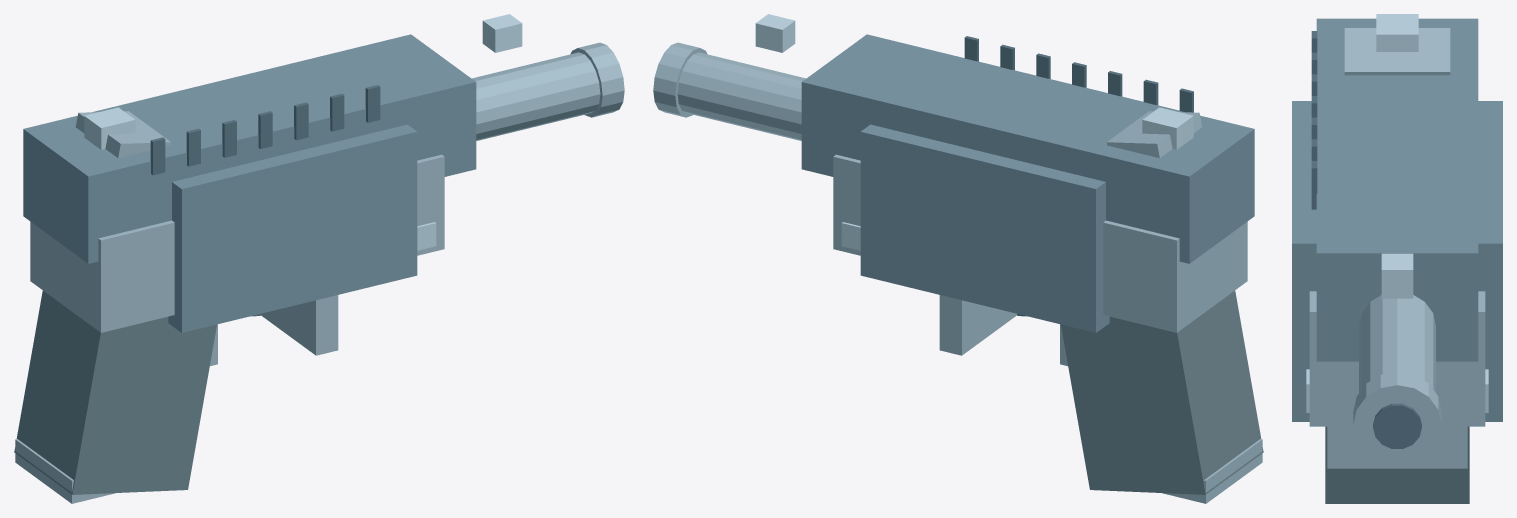
File: classic-revolver.glb
3 views of the same model, side by side, from view 1: azimuth 30°, elevation 25°; view 2: azimuth 150°, elevation 25°; view 3: azimuth 270°, elevation 25° (orthographic). The views are drawn at different scales.
Parts seen in each view (by area): view 1: SLIDE_ASSEMBLY, REVOLVER_FRAME, GRIP_PANEL, MAIN_BODY, BARREL, TRIGGER_GUARD_FRONT, MUZZLE_CROWN, GRIP_HEEL, HAMMER, REAR_SIGHT, FRONT_SIGHT; view 2: SLIDE_ASSEMBLY, REVOLVER_FRAME, GRIP_PANEL, MAIN_BODY, BARREL, TRIGGER_GUARD_FRONT, MUZZLE_CROWN, GRIP_HEEL, HAMMER, REAR_SIGHT, FRONT_SIGHT; view 3: SLIDE_ASSEMBLY, REVOLVER_FRAME, MAIN_BODY, BARREL, GRIP_PANEL, MUZZLE_CROWN, HAMMER, TRIGGER_GUARD_FRONT, MUZZLE_BORE, REAR_SIGHT, FRONT_SIGHT, FRAME_RAIL (+1 smaller).
Boxes of the visible parts, x1,y1,x2,y2 form: SLIDE_ASSEMBLY: (23,34,476,263); REVOLVER_FRAME: (168,124,417,332); GRIP_PANEL: (14,290,216,494); MAIN_BODY: (30,154,444,332); BARREL: (472,52,600,140); TRIGGER_GUARD_FRONT: (261,295,338,355); MUZZLE_CROWN: (570,42,624,117); GRIP_HEEL: (15,439,115,503); HAMMER: (75,111,171,158); REAR_SIGHT: (84,107,135,149); FRONT_SIGHT: (482,14,522,52); SLIDE_ASSEMBLY: (801,34,1254,263); REVOLVER_FRAME: (860,124,1109,332); GRIP_PANEL: (1061,290,1263,494); MAIN_BODY: (833,154,1247,332); BARREL: (677,52,805,140); TRIGGER_GUARD_FRONT: (939,295,1016,355); MUZZLE_CROWN: (653,42,707,117); GRIP_HEEL: (1162,439,1262,503); HAMMER: (1106,111,1202,158); REAR_SIGHT: (1142,107,1193,149); FRONT_SIGHT: (755,14,795,52); SLIDE_ASSEMBLY: (1316,18,1478,361); REVOLVER_FRAME: (1292,101,1502,421); MAIN_BODY: (1309,291,1485,426); BARREL: (1359,295,1435,392); GRIP_PANEL: (1325,426,1469,503); MUZZLE_CROWN: (1353,372,1441,465); HAMMER: (1344,28,1450,75); TRIGGER_GUARD_FRONT: (1327,426,1467,468); MUZZLE_BORE: (1373,403,1421,448); REAR_SIGHT: (1376,14,1418,51); FRONT_SIGHT: (1381,253,1413,298); FRAME_RAIL: (1306,369,1488,412).
Bounding box in the file's own units: 1.16 × 0.7066 × 0.3.
